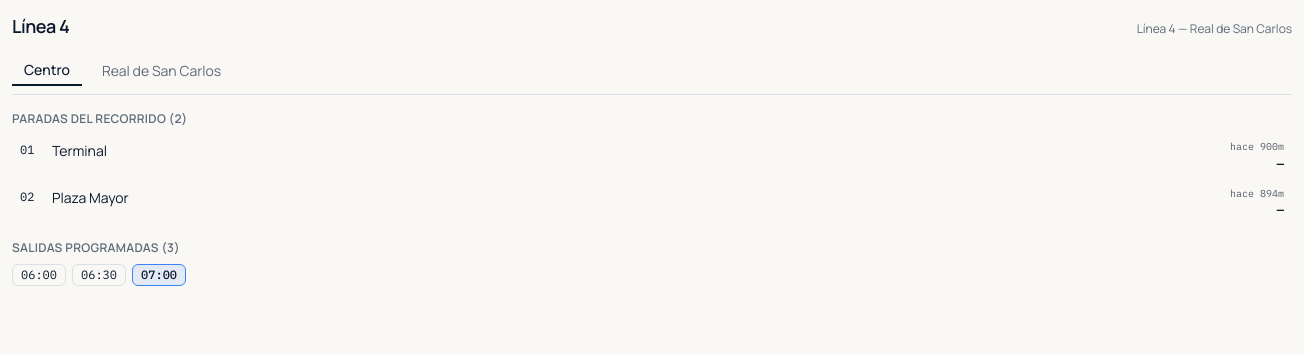
LineScheduleCard › R-03 the expanded panel shows the "no more buses today" copy when nothing future remains
This screenshot has width=1304, height=355.
Step 1. Click the text "Terminal" → (80, 150), box [52, 141, 107, 160]
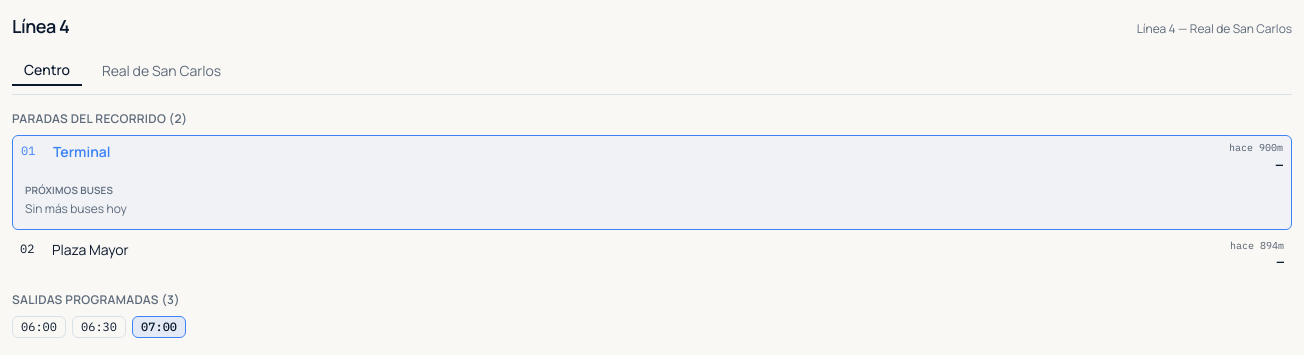
Now the element with test id "line-stop-detail-sol-antigua:1" shows "Sin más buses hoy", box [25, 200, 127, 217]
